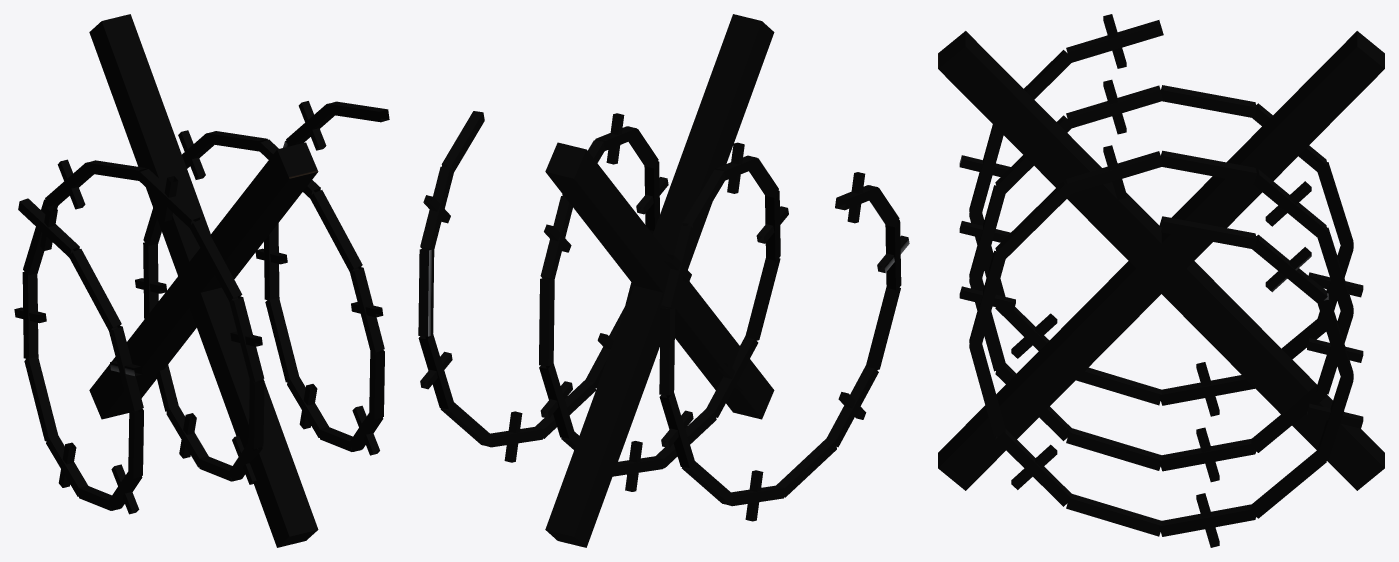
File: barbeles_piquet.obj
3 renders of one model, left to right at view 1: azimuth 30°, elevation 25°; view 2: azimuth 150°, elevation 25°; view 3: azimuth 270°, elevation 25°, orthographic. The views are drawn at different scales.
Visible parts, largest first — view 1: corps; view 2: corps; view 3: corps.
Part boxes in pixels (box(x1,y1,x2,y2)): corps: box(14, 14, 389, 547); corps: box(418, 14, 909, 547); corps: box(938, 14, 1384, 547).
Bounding box in the file's own units: 1.03 × 1.05 × 0.9594.
